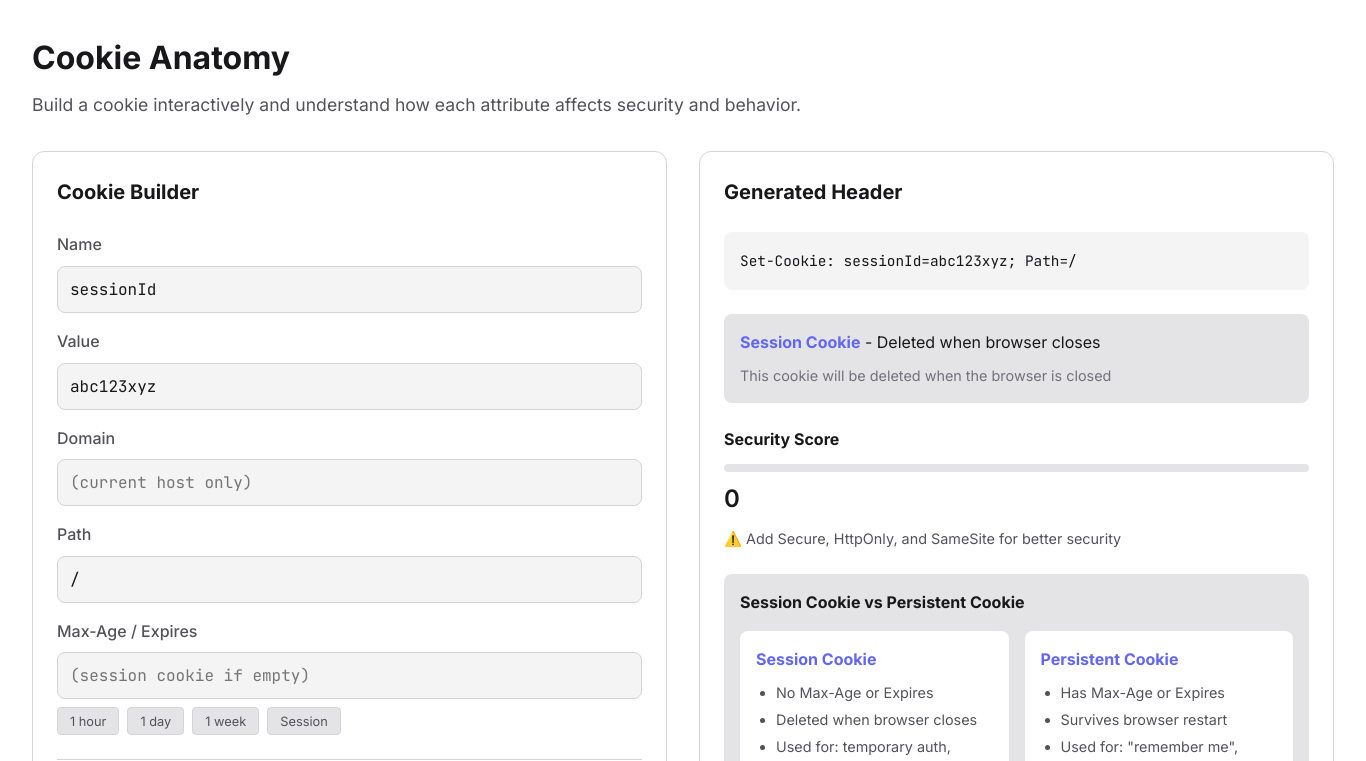
Test: CookieAnatomy › updates preview when name changes
Step 1. Replace the text in the field labelled "Name" with "testSession" → x=350, y=289, box x1=57 y1=266 x2=642 y2=313
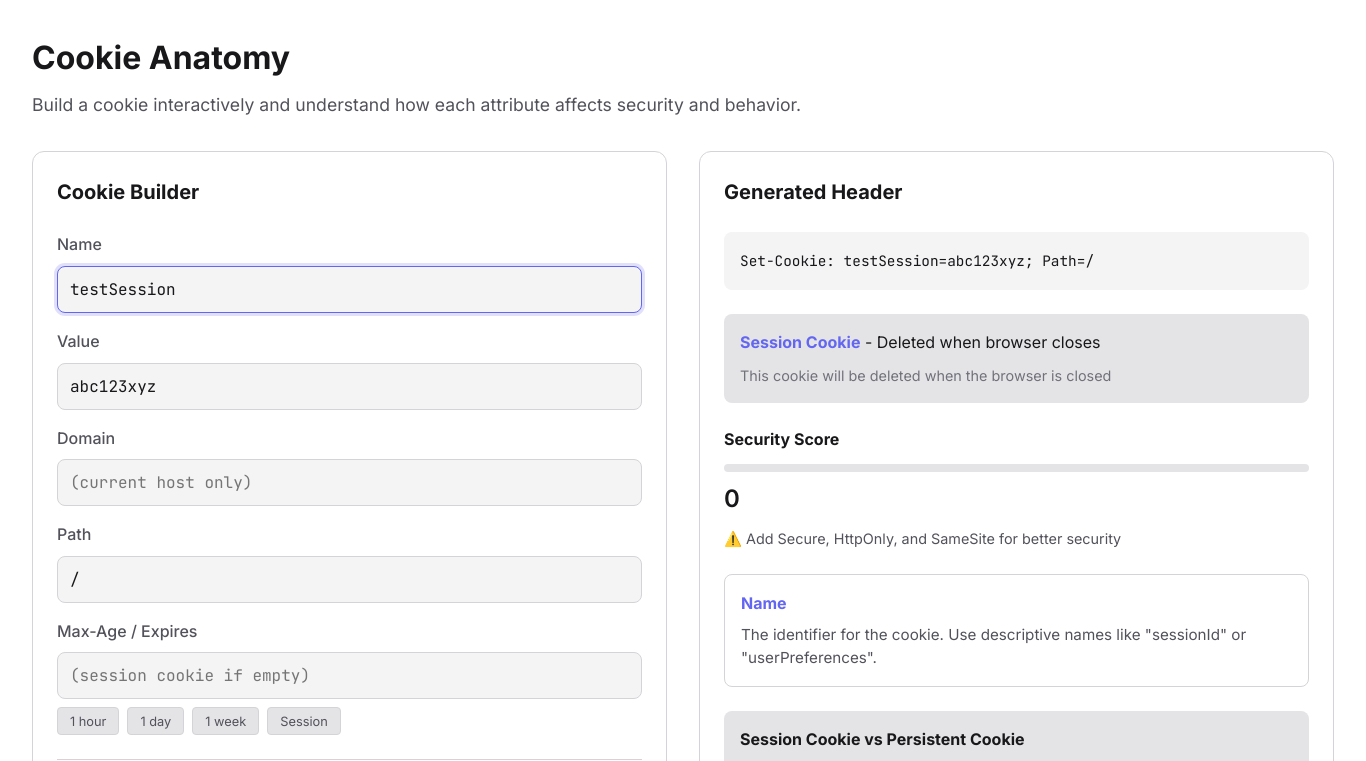
Expected: the element with test id "cookie-preview" shows "testSession", x1=740 y1=251 x2=1094 y2=270
